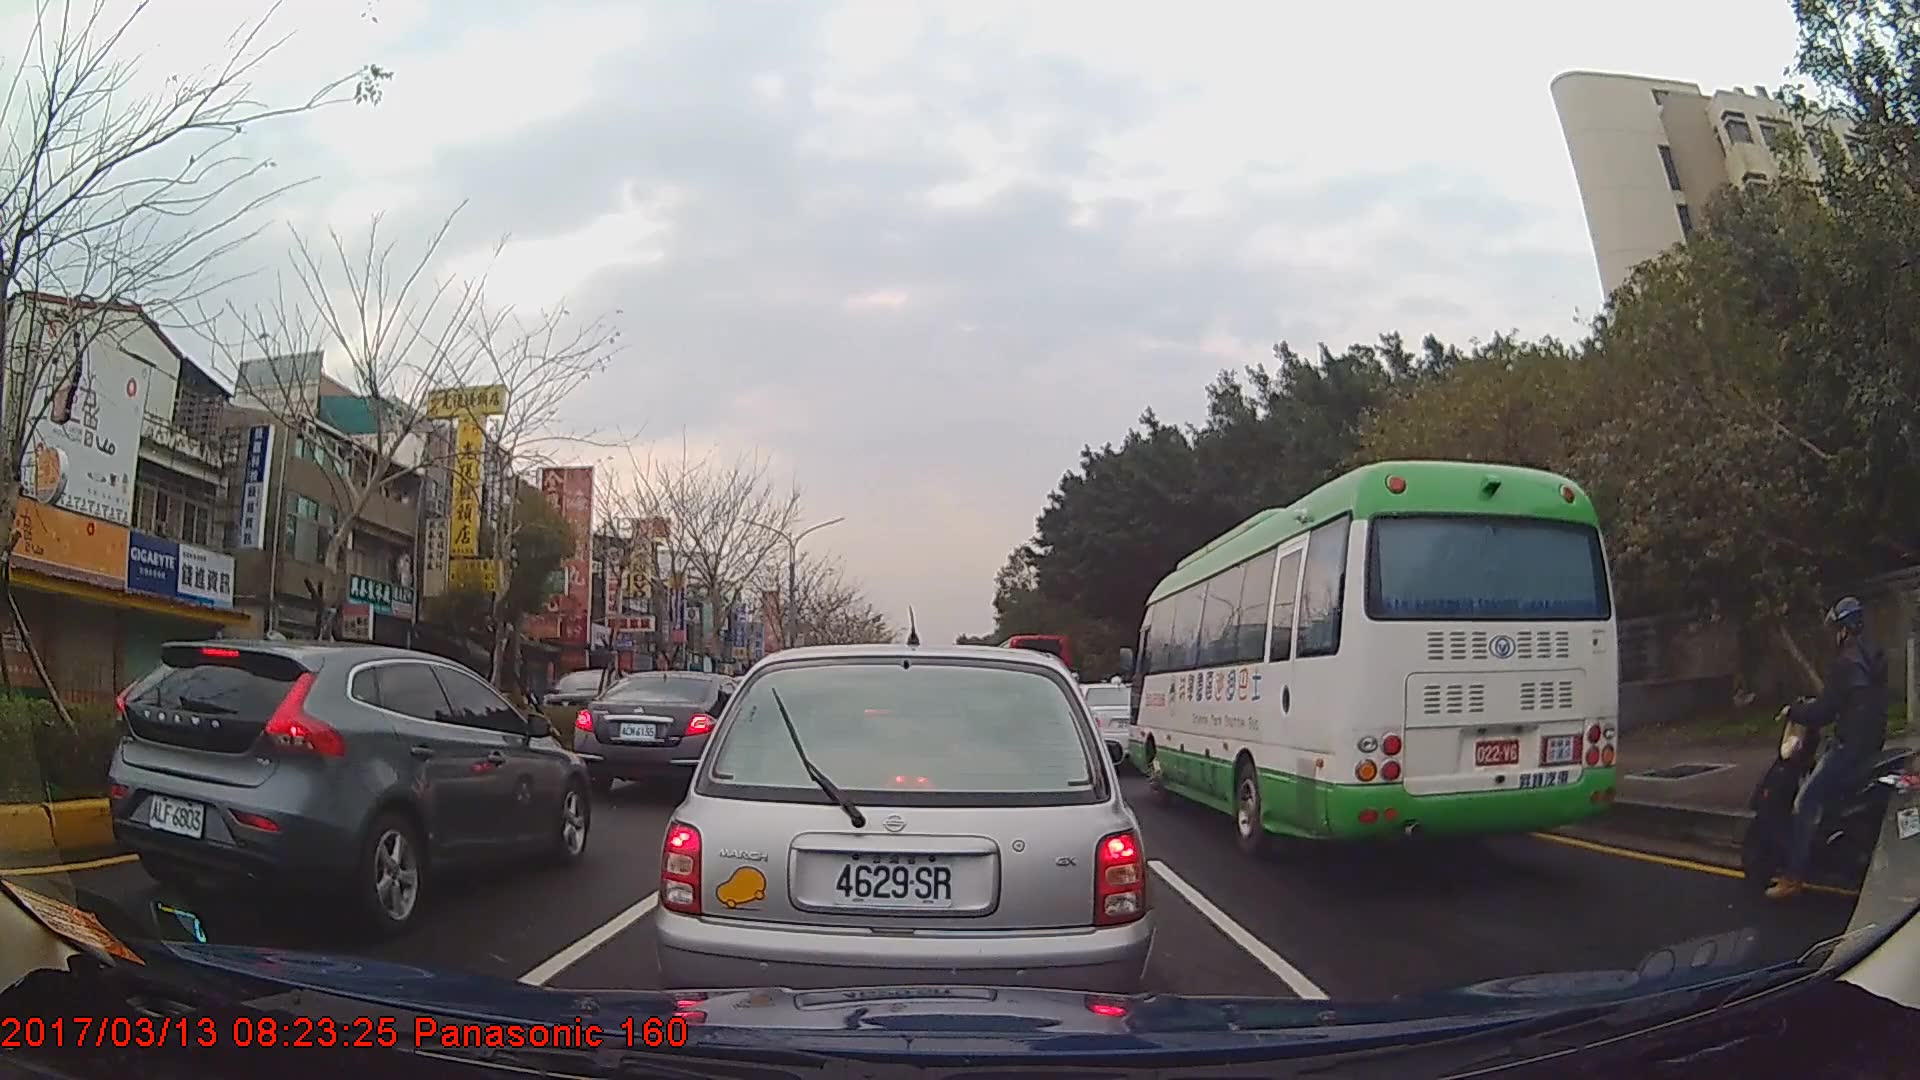rider: (1751, 591, 1914, 901)
vehicle: (1127, 456, 1619, 866), (656, 639, 1154, 1039), (109, 640, 590, 929), (571, 670, 760, 807), (1070, 680, 1163, 764), (995, 629, 1073, 721), (536, 666, 633, 729)
